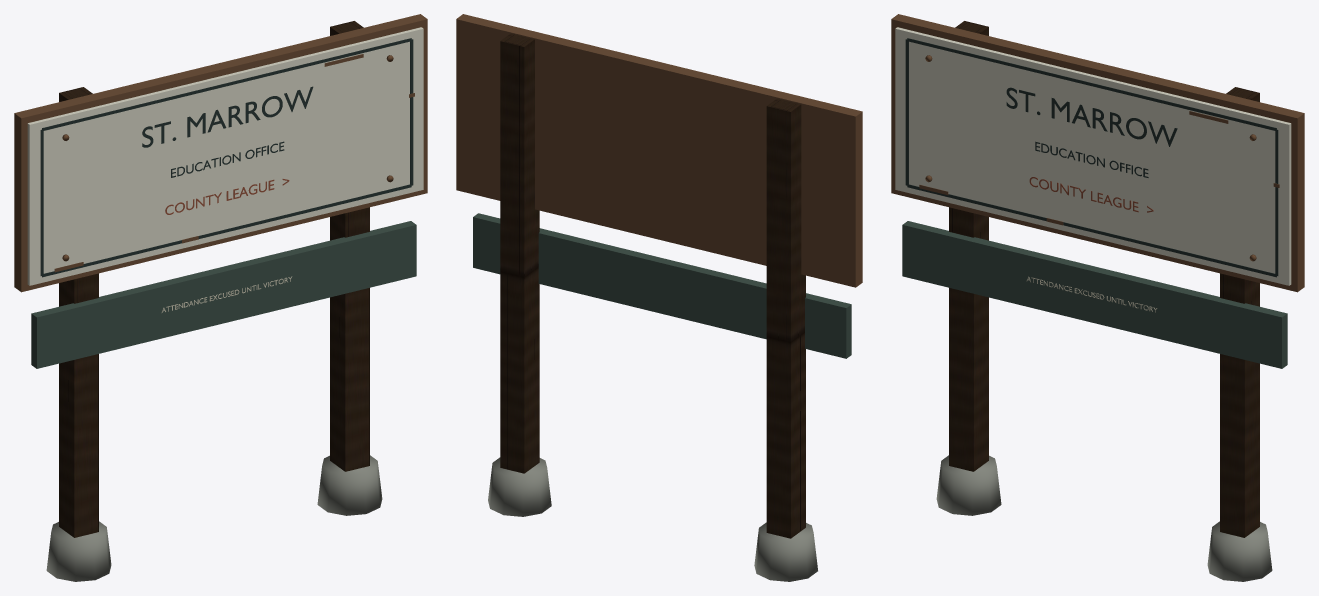
File: waymarker-st-marrow.glb
3 renders of one model, left to right at view 1: azimuth 30°, elevation 25°; view 2: azimuth 150°, elevation 25°; view 3: azimuth 330°, elevation 25°, orthographic.
Parts seen in each view (by area): view 1: Reflective enamel face, Lower regulation plaque, Steel folded sign back, Weathered timber upright, Weathered timber upright.001, Concrete footing.001, Concrete footing, Destination, Printed border.001, Printed border, Printed border.002, Direction (+2 smaller); view 2: Steel folded sign back, Lower regulation plaque, Weathered timber upright, Weathered timber upright.001, Concrete footing.001, Concrete footing; view 3: Reflective enamel face, Lower regulation plaque, Steel folded sign back, Weathered timber upright.001, Weathered timber upright, Concrete footing, Concrete footing.001, Printed border.001, Destination, Printed border, Printed border.002, Printed border.003 (+2 smaller).
Part boxes in pixels (x1,y1,x2,y2): Reflective enamel face: [27, 27, 423, 285]; Lower regulation plaque: [31, 221, 416, 368]; Steel folded sign back: [14, 14, 427, 292]; Weathered timber upright: [59, 87, 98, 537]; Weathered timber upright.001: [330, 21, 369, 471]; Concrete footing.001: [317, 455, 382, 515]; Concrete footing: [46, 521, 111, 581]; Destination: [142, 86, 313, 147]; Printed border.001: [42, 38, 411, 131]; Printed border: [42, 184, 411, 277]; Printed border.002: [40, 129, 43, 275]; Direction: [165, 179, 289, 214]; Steel folded sign back: [456, 14, 862, 287]; Lower regulation plaque: [473, 213, 851, 358]; Weathered timber upright: [766, 98, 805, 538]; Weathered timber upright.001: [500, 33, 539, 473]; Concrete footing.001: [488, 457, 551, 516]; Concrete footing: [754, 522, 817, 581]; Reflective enamel face: [895, 27, 1291, 285]; Lower regulation plaque: [902, 221, 1287, 368]; Steel folded sign back: [891, 14, 1304, 292]; Weathered timber upright.001: [1220, 87, 1259, 537]; Weathered timber upright: [949, 21, 988, 471]; Concrete footing: [936, 455, 1001, 515]; Concrete footing.001: [1207, 521, 1272, 581]; Printed border.001: [907, 38, 1276, 131]; Destination: [1006, 87, 1177, 146]; Printed border: [907, 184, 1276, 277]; Printed border.002: [905, 39, 908, 185]; Printed border.003: [1275, 129, 1278, 275].
Size of the model in its own units: 1.98 by 2.2 by 0.28.
Materials: 8 (1 with a texture image).
